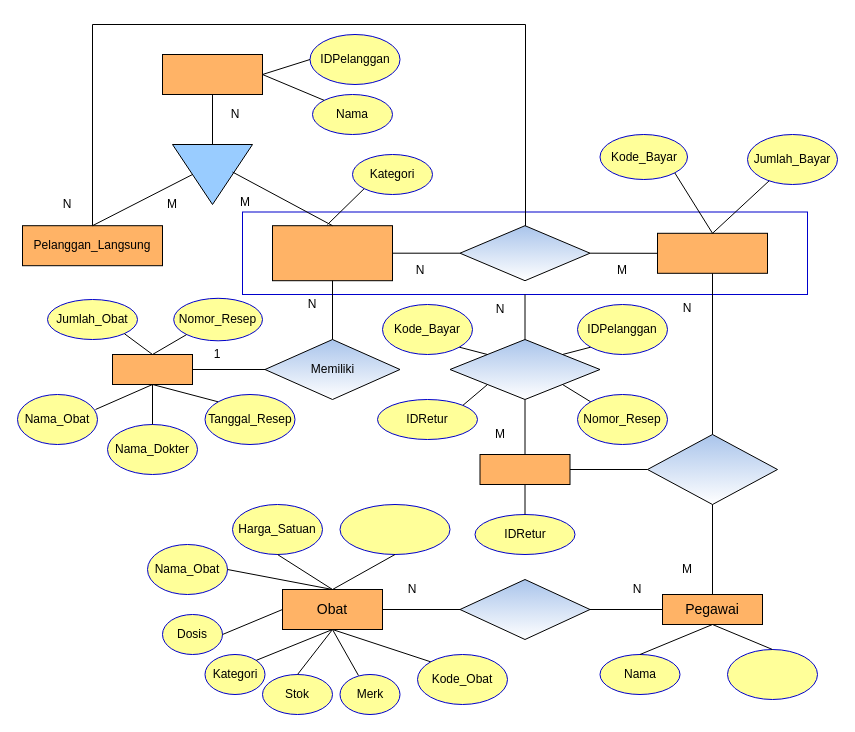
This 855x732 diagram has some shape labels left out. The shapes that lost their labels are listed below. From the top down, each one's box as (x1, y1, x2, y2) in pixels, then its label:
(162, 54, 262, 94): Pelanggan
(172, 144, 252, 204): ISA
(272, 225, 392, 281): Pelanggan_Resep_ Dokter
(459, 225, 590, 281): Transaksi
(656, 232, 768, 273): Pembayaran
(112, 354, 192, 384): Resep
(449, 338, 600, 400): Melakukan
(479, 454, 570, 484): Retur
(646, 434, 778, 504): Memproses
(339, 504, 450, 554): Nama_Produsen
(459, 578, 590, 640): Mengelola
(726, 648, 818, 700): IDPegawai
